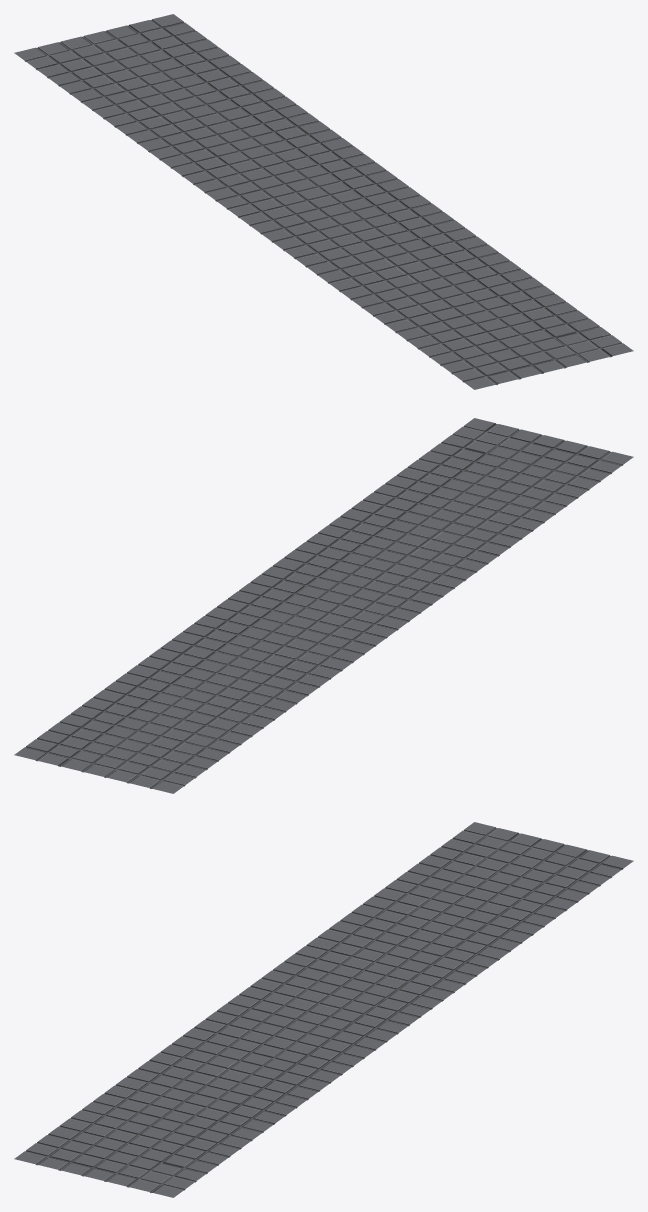
Rendered from floorFinal.fbx.
3 views of the same model, one above another, from view 1: azimuth 30°, elevation 25°; view 2: azimuth 150°, elevation 25°; view 3: azimuth 330°, elevation 25° (orthographic).
Parts seen in each view (by area): view 1: Plane; view 2: Plane; view 3: Plane.
Part boxes in pixels (bbox=[...]): Plane: bbox=[14, 14, 633, 389]; Plane: bbox=[14, 418, 633, 793]; Plane: bbox=[14, 822, 633, 1197].
Size of the model in its own units: 200 by 0.6399 by 1000.
Materials: 1 (1 with a texture image).
